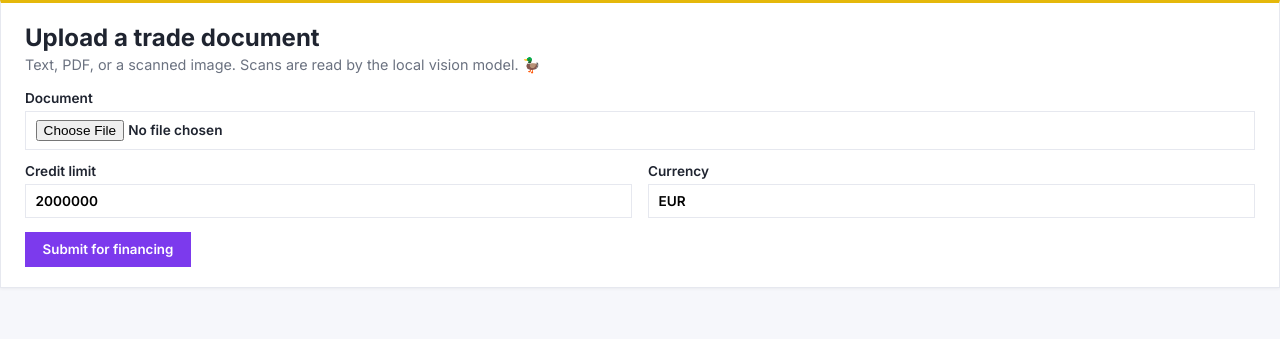
Test: UploadPanel › shows an error when no file is chosen
Click the button "Submit for financing" at (108, 249), box [25, 232, 191, 267]
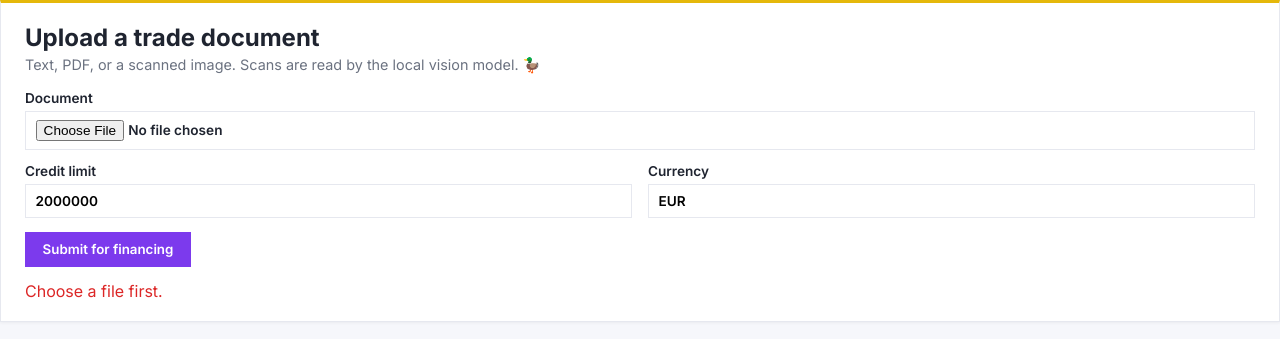
Check: the message shows "Choose a file", box [25, 281, 163, 301]
